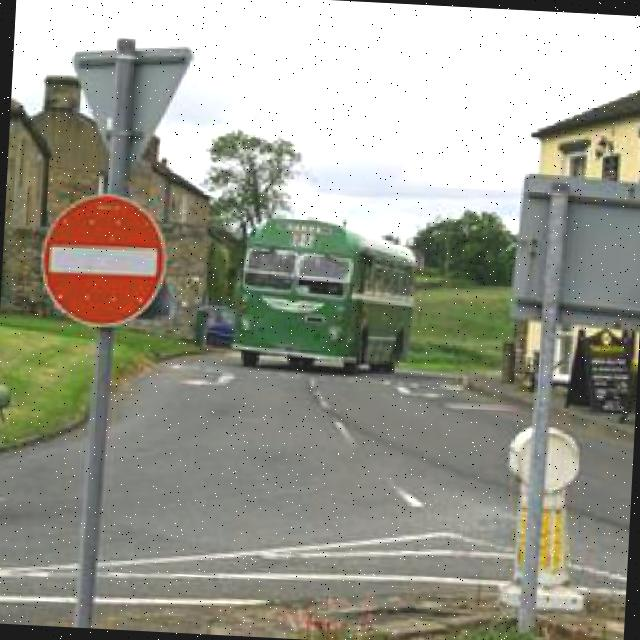Zakaz wjazdu: (35, 190, 173, 334)
